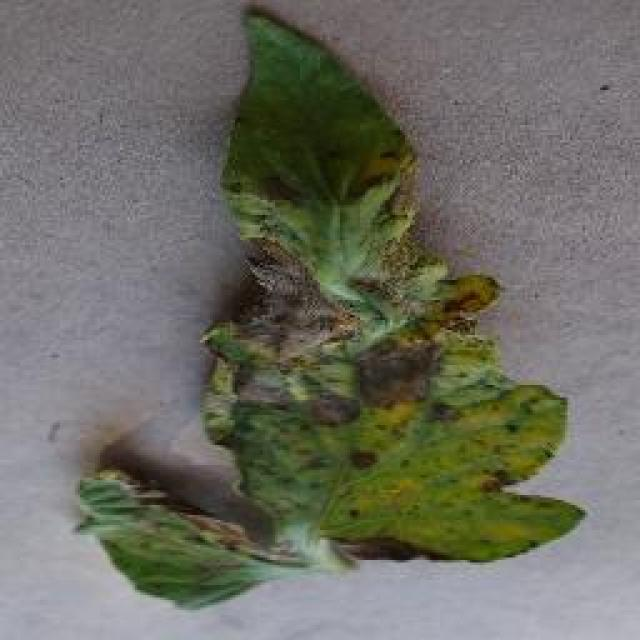Tomato Early blight leaf: (48, 10, 592, 602)
